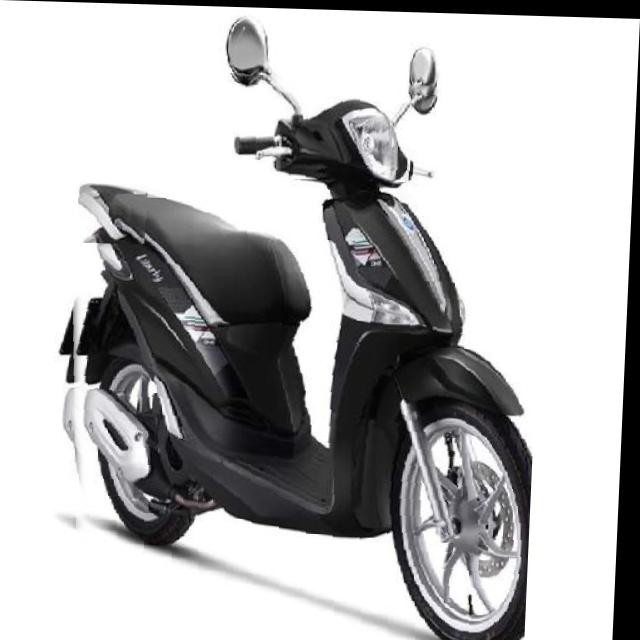All: (50, 62, 550, 640)
Head: (232, 86, 415, 180)
Tail: (79, 167, 152, 244)
